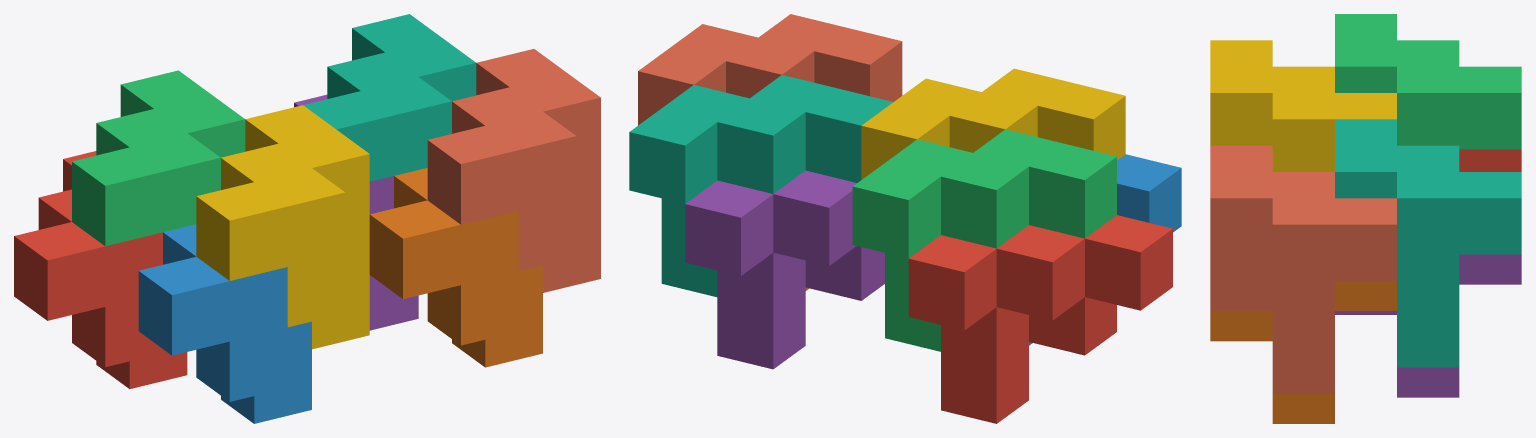
The model's file is tiling.obj.
3 renders of one model, left to right at view 1: azimuth 30°, elevation 25°; view 2: azimuth 150°, elevation 25°; view 3: azimuth 270°, elevation 25°, orthographic. The views are drawn at different scales.
Visible parts, largest first — view 1: copy_1_domain_8, copy_1_domain_4, copy_1_domain_2, copy_1_domain_6, copy_1_domain_3, copy_1_domain_1, copy_1_domain_7, copy_1_domain_5; view 2: copy_1_domain_1, copy_1_domain_3, copy_1_domain_7, copy_1_domain_5, copy_1_domain_4, copy_1_domain_8, copy_1_domain_2; view 3: copy_1_domain_8, copy_1_domain_7, copy_1_domain_3, copy_1_domain_4, copy_1_domain_6, copy_1_domain_5, copy_1_domain_1.
Boxes of the visible parts, box(x1,y1,x2,y2) form: copy_1_domain_8: box(427, 49, 600, 292); copy_1_domain_4: box(196, 105, 369, 349); copy_1_domain_2: box(138, 224, 311, 423); copy_1_domain_6: box(369, 168, 542, 367); copy_1_domain_3: box(72, 70, 245, 246); copy_1_domain_1: box(14, 151, 187, 388); copy_1_domain_7: box(303, 14, 476, 181); copy_1_domain_5: box(294, 94, 418, 330); copy_1_domain_1: box(908, 215, 1172, 423); copy_1_domain_3: box(852, 129, 1116, 351); copy_1_domain_7: box(629, 75, 893, 296); copy_1_domain_5: box(685, 170, 884, 369); copy_1_domain_4: box(861, 68, 1125, 179); copy_1_domain_8: box(638, 14, 902, 125); copy_1_domain_2: box(1029, 154, 1181, 345); copy_1_domain_8: box(1210, 145, 1396, 393); copy_1_domain_7: box(1335, 119, 1521, 367); copy_1_domain_3: box(1335, 14, 1521, 149); copy_1_domain_4: box(1210, 40, 1396, 171); copy_1_domain_6: box(1210, 281, 1396, 423); copy_1_domain_5: box(1335, 254, 1521, 397); copy_1_domain_1: box(1459, 149, 1521, 171).
Size of the model in its own units: 9 by 4 by 5.
